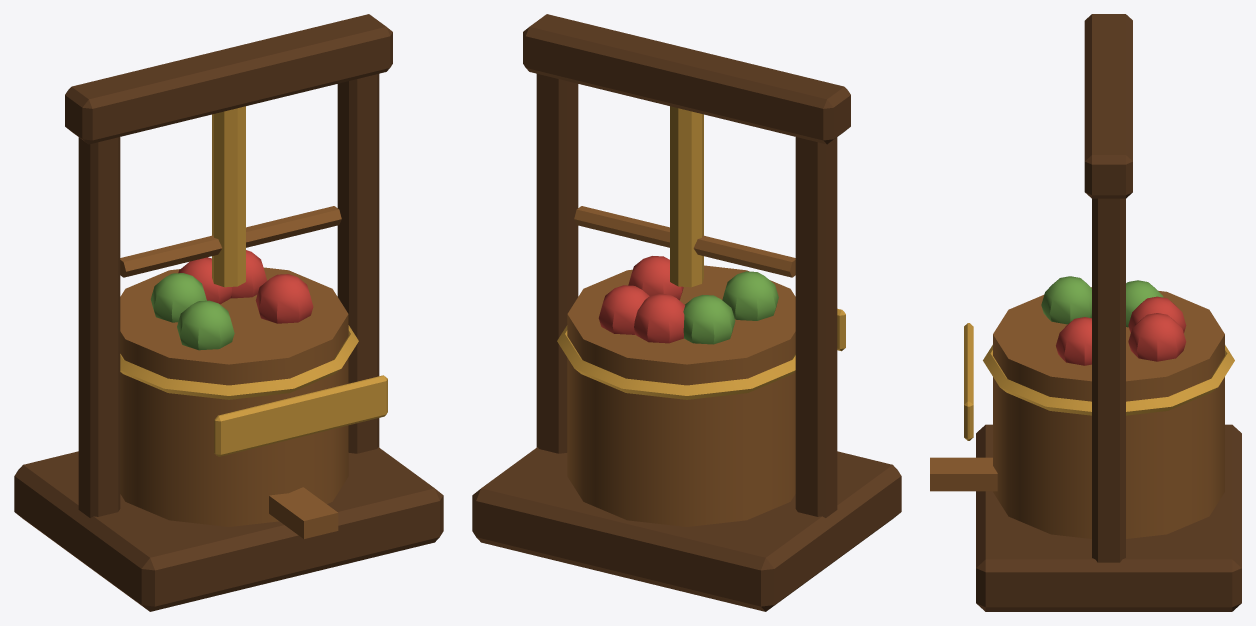
The model's file is PR_Station_Pres_T2.fbx.
3 views of the same model, side by side, from view 1: azimuth 30°, elevation 25°; view 2: azimuth 150°, elevation 25°; view 3: azimuth 270°, elevation 25° (orthographic). The views are drawn at different scales.
Visible parts, largest first — view 1: PR_Station_Pres_T2; view 2: PR_Station_Pres_T2; view 3: PR_Station_Pres_T2.
Boxes of the visible parts, box(x1,y1,x2,y2) form: PR_Station_Pres_T2: box(14, 14, 443, 611); PR_Station_Pres_T2: box(472, 14, 901, 611); PR_Station_Pres_T2: box(930, 14, 1241, 611).
Bounding box in the file's own units: 0.72 × 1.05 × 0.645.
